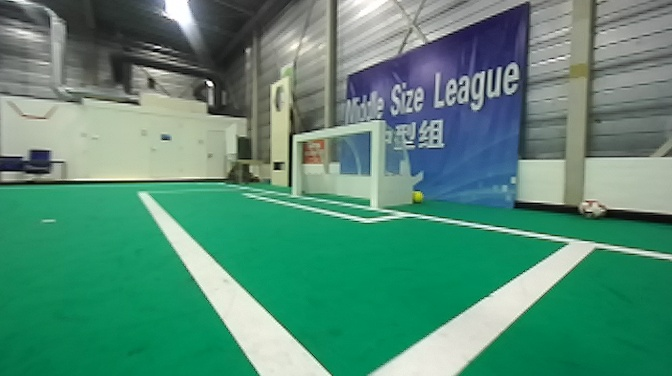ball: (573, 190, 608, 220), (413, 188, 425, 211)
goalpost: (361, 113, 388, 209), (284, 129, 307, 202)
